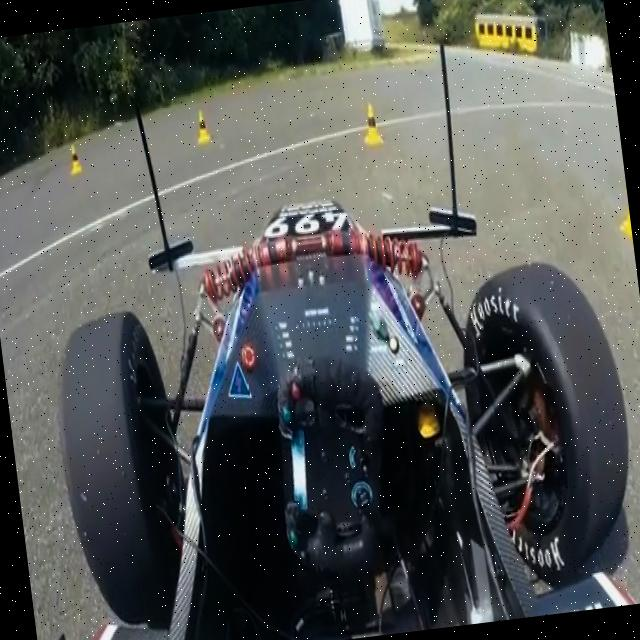yellow_cone: (612, 183, 633, 244), (358, 100, 384, 149), (192, 108, 212, 145), (66, 142, 84, 177)
